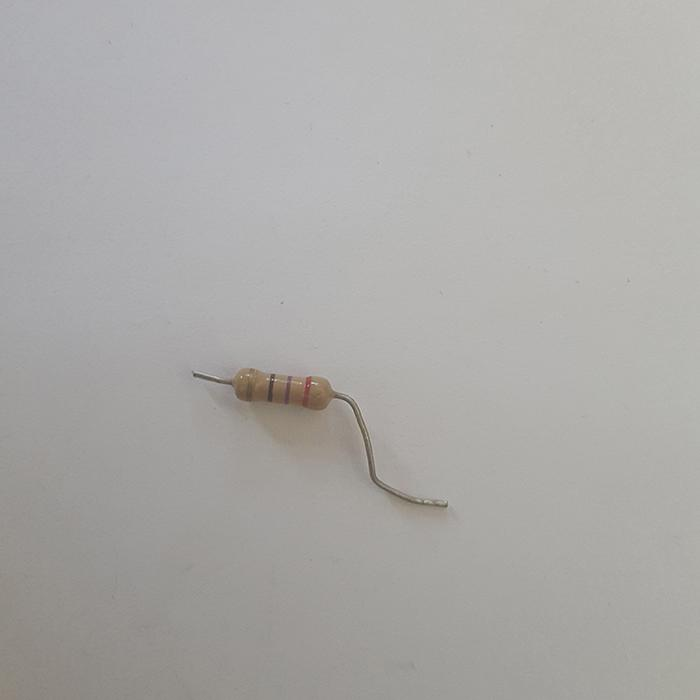resistor: (227, 367, 334, 410)
